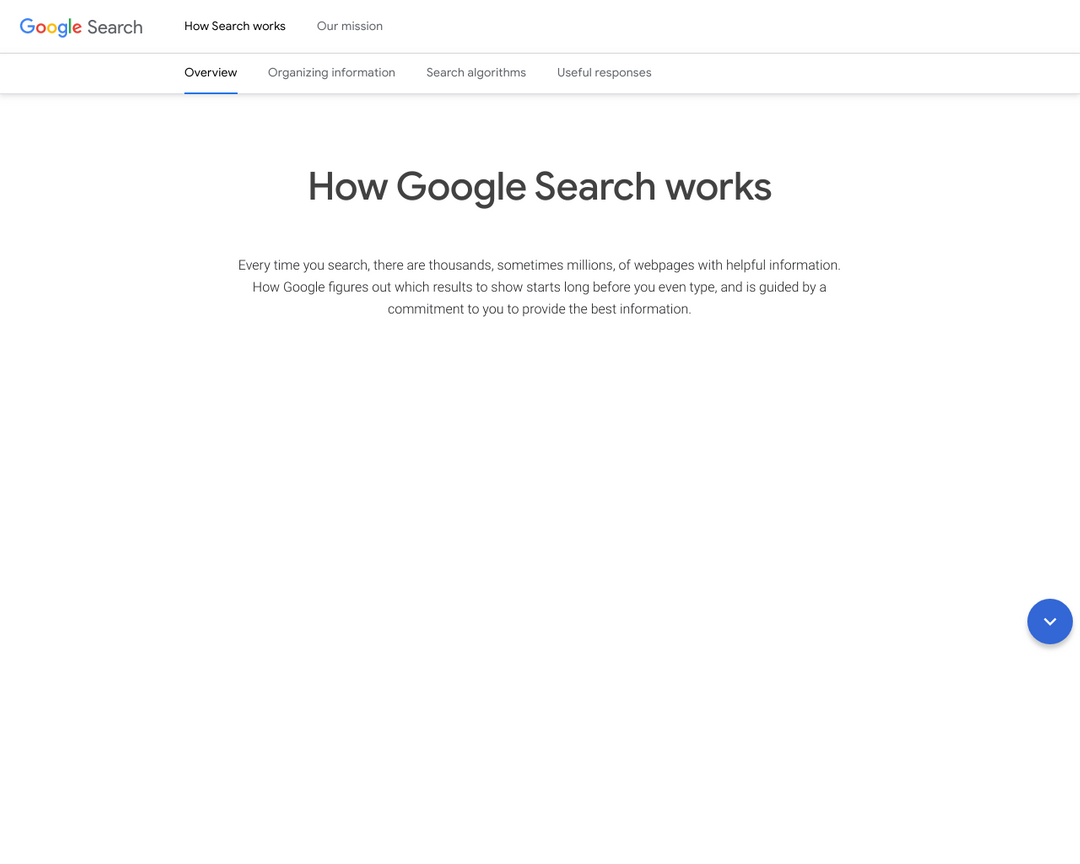Google: (16, 13, 86, 44)
